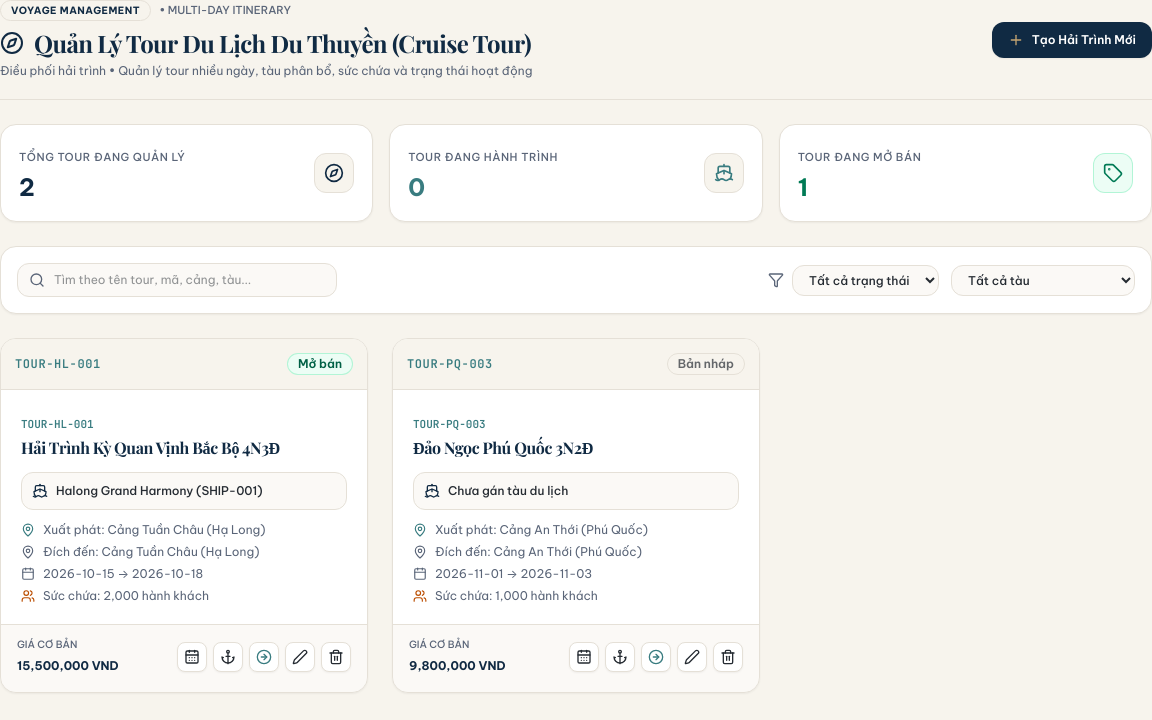
Test: ItineraryPage (Cruise Tour Management Interface) › opens StatusTransitionModal when clicking the status transition button
Expected: the heading "Hải Trình Kỳ Quan Vịnh Bắc Bộ 4N3Đ" is shown, [21, 437, 280, 458]
Click the button titled "Chuyển trạng thái tour" in the row of "15,500,000". click: (264,656)
box: [249, 642, 279, 672]
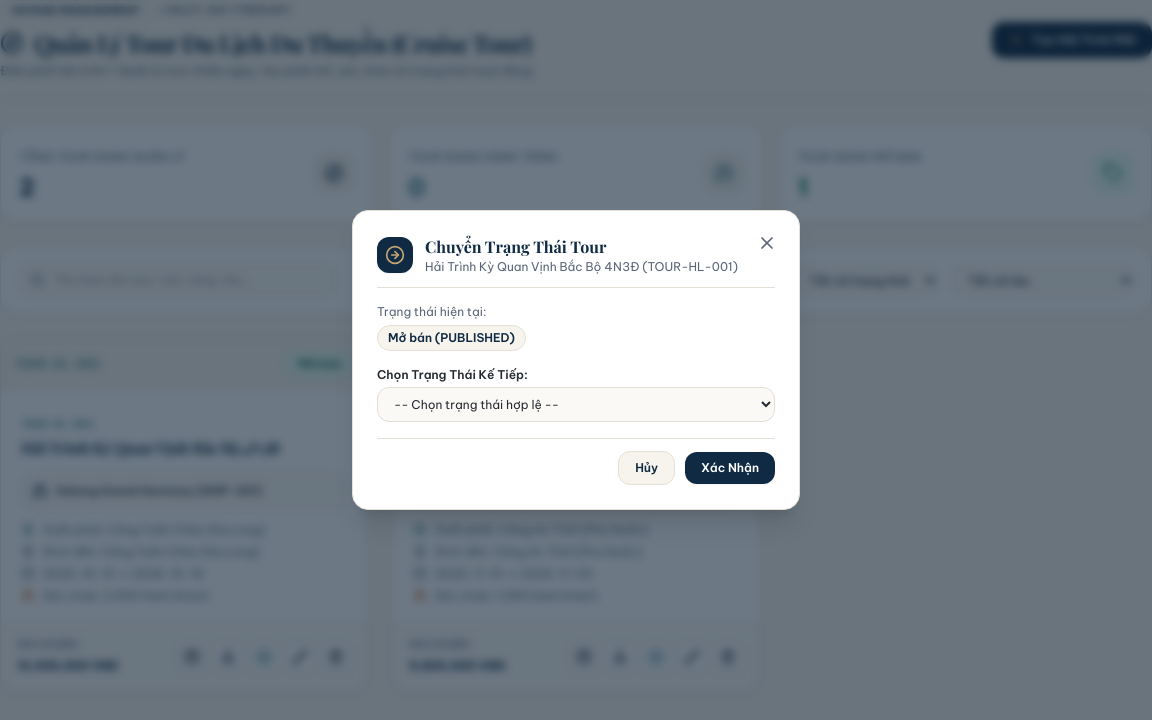
Result: the heading "Chuyển Trạng Thái Tour" is shown at [425, 236, 606, 257]
